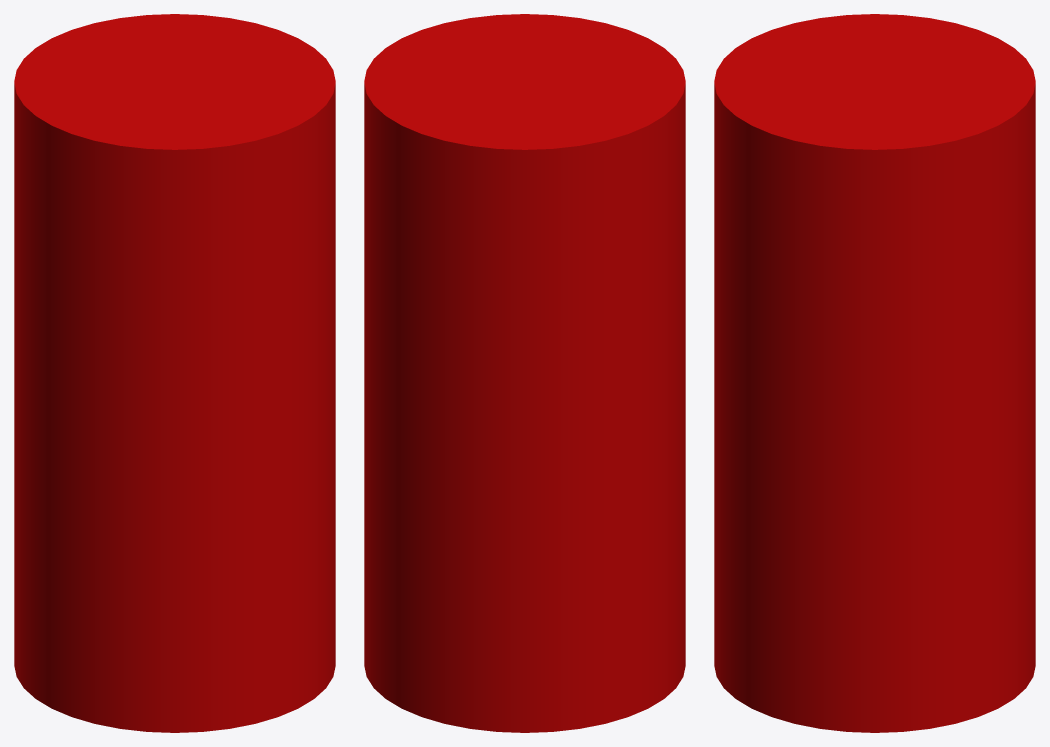
The model's file is GameObjectData.obj.
3 renders of one model, left to right at view 1: azimuth 30°, elevation 25°; view 2: azimuth 150°, elevation 25°; view 3: azimuth 270°, elevation 25°, orthographic.
Visible parts, largest first — view 1: HellBoss; view 2: HellBoss; view 3: HellBoss.
Part boxes in pixels (box(x1,y1,x2,y2)): HellBoss: box(14, 14, 335, 732); HellBoss: box(364, 14, 685, 732); HellBoss: box(714, 14, 1035, 732).
Size of the model in its own units: 1.5 by 3 by 1.5.
